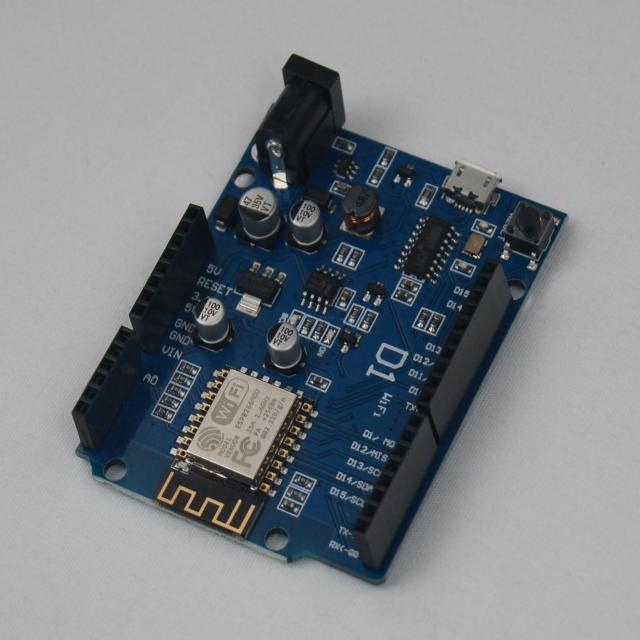Arduino Uno WiFi Shield: (73, 56, 566, 584)
